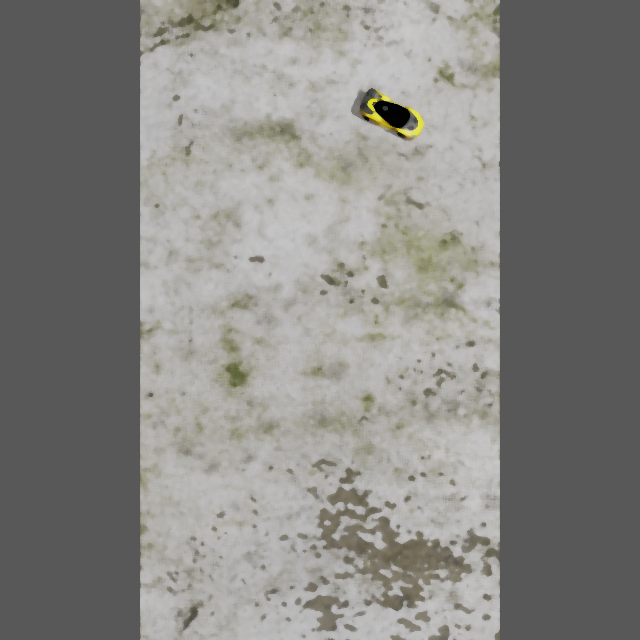car: (355, 83, 430, 145)
